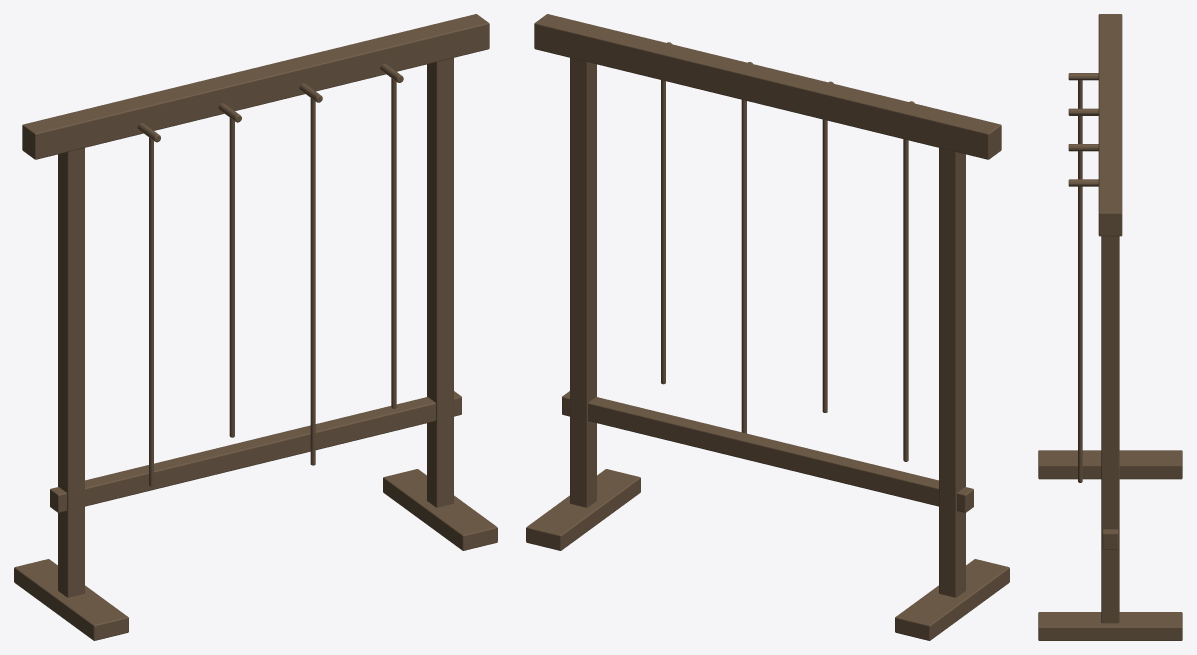
The model's file is SM_DY_OperatorRodRack.fbx.
3 renders of one model, left to right at view 1: azimuth 30°, elevation 25°; view 2: azimuth 150°, elevation 25°; view 3: azimuth 270°, elevation 25°, orthographic. The views are drawn at different scales.
Parts seen in each view (by area): view 1: SM_DY_OperatorRodRack; view 2: SM_DY_OperatorRodRack; view 3: SM_DY_OperatorRodRack.
Part boxes in pixels (bbox=[...]): SM_DY_OperatorRodRack: bbox=[14, 14, 497, 640]; SM_DY_OperatorRodRack: bbox=[526, 14, 1009, 640]; SM_DY_OperatorRodRack: bbox=[1038, 14, 1182, 640].
Size of what is drawn, in the model's own units: 180 by 55 by 185.
